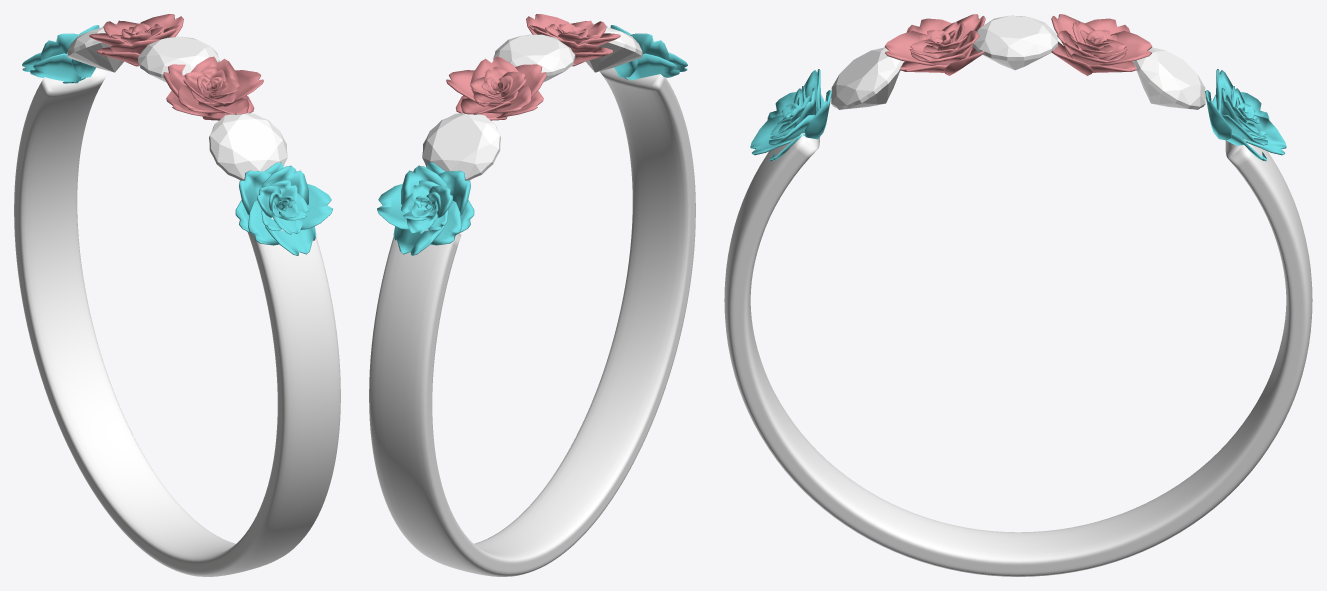
File: doruji.glb
3 renders of one model, left to right at view 1: azimuth 30°, elevation 25°; view 2: azimuth 150°, elevation 25°; view 3: azimuth 270°, elevation 25°, orthographic. The views are drawn at different scales.
Visible parts, largest first — view 1: ring, rose.002, rose.001, diamond_white.001, diamond_white; view 2: ring, rose.002, rose.001, diamond_white.001, diamond_white; view 3: ring, rose.001, rose.002, diamond_white.001, diamond_white.
Part boxes in pixels (x1=…): ring: x1=14, y1=67, x2=340, y2=576; rose.002: x1=22, y1=25, x2=332, y2=255; rose.001: x1=89, y1=14, x2=263, y2=120; diamond_white.001: x1=67, y1=23, x2=287, y2=180; diamond_white: x1=138, y1=36, x2=219, y2=82; ring: x1=369, y1=67, x2=695, y2=576; rose.002: x1=377, y1=25, x2=687, y2=255; rose.001: x1=446, y1=14, x2=620, y2=120; diamond_white.001: x1=422, y1=23, x2=642, y2=180; diamond_white: x1=493, y1=34, x2=575, y2=82; ring: x1=724, y1=133, x2=1312, y2=576; rose.001: x1=884, y1=14, x2=1152, y2=75; rose.002: x1=750, y1=69, x2=1286, y2=161; diamond_white.001: x1=831, y1=47, x2=1205, y2=109; diamond_white: x1=972, y1=15, x2=1057, y2=70.
Bounding box in the file's own units: 0.00102 × 0.00569 × 0.00562.
